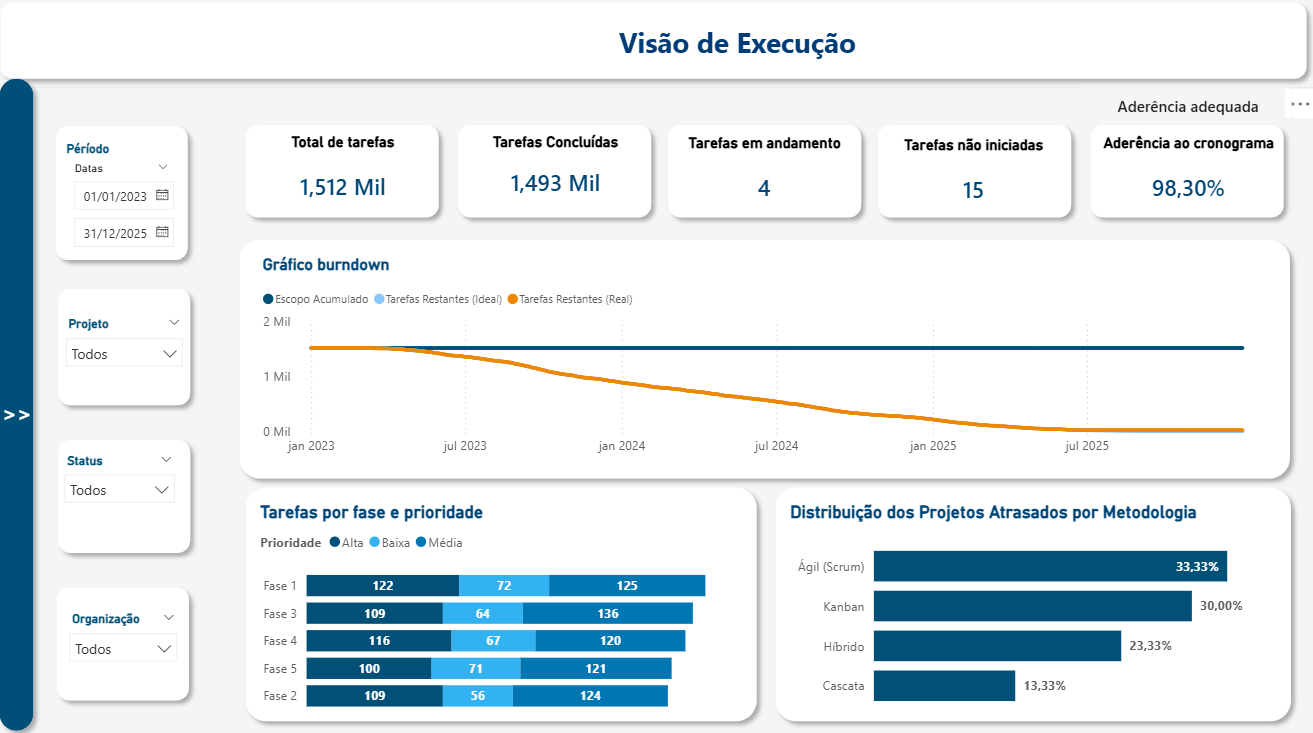

What the dashboard file says about the page in this screenshot:
{"tool":"powerbi","page":{"name":"Execução","canvas":[1280,720],"ordinal":3},"visuals":[{"type":"shape","box":[0,73.3,50.9,647.5],"z":0,"group":"g13"},{"type":"shape","box":[442.4,118,204.3,107.5],"z":0,"group":"g7"},{"type":"group","id":"g1","title":"Grupo 5","box":[645,118,204.3,107.5],"z":0,"group":"g9"},{"type":"shape","box":[645,118,204.3,107.5],"z":0,"group":"g1"},{"type":"shape","box":[848.3,118,204.3,107.5],"z":0,"group":"g8"},{"type":"shape","box":[1052.9,118,204.3,107.5],"z":0,"group":"g15"},{"type":"shape","box":[237.6,118.8,204.3,107.5],"z":0,"group":"g3"},{"type":"shape","box":[54.5,120,145.6,147.4],"z":0,"group":"g2"},{"type":"shape","box":[231.9,229.2,1032,248.5],"z":0,"group":"g14"},{"type":"shape","box":[57.5,276.6,145.6,130.7],"z":0,"group":"g4"},{"type":"shape","box":[56.9,422,145.6,127.2],"z":0,"group":"g6"},{"type":"shape","box":[237.5,468.1,511.3,243.9],"z":0,"group":"g10"},{"type":"shape","box":[748.6,468.1,515.5,243.9],"z":0,"group":"g11"},{"type":"shape","box":[56,565.1,145.6,127.2],"z":0,"group":"g5"},{"type":"shape","box":[1.5,0,1278.5,91.9],"z":1000},{"type":"group","id":"g2","title":"Grupo 9","box":[54.5,120,146.1,149.1],"z":1000,"group":"g12"},{"type":"cardVisual","title":"Tarefas Concluídas","fields":{"Data":["CountNonNull(fato_tarefas.nome_tarefa)"]},"box":[457.1,135,177.3,76.2],"z":1000,"group":"g7"},{"type":"cardVisual","title":"Tarefas em andamento","fields":{"Data":["CountNonNull(fato_tarefas.nome_tarefa)"]},"box":[658.3,136,178,82.6],"z":1000,"group":"g1"},{"type":"cardVisual","title":"Total de tarefas","fields":{"Data":["CountNonNull(fato_tarefas.nome_tarefa)"]},"box":[260.1,136.1,160.2,83.4],"z":1000,"group":"g3"},{"type":"cardVisual","title":"Aderência ao cronograma","fields":{"Data":["Medidas.% SPI"]},"box":[1062.1,136.6,188.3,84.4],"z":1000,"group":"g15"},{"type":"cardVisual","title":"Tarefas não iniciadas","fields":{"Data":["CountNonNull(fato_tarefas.nome_tarefa)"]},"box":[855.8,137,188.3,85.7],"z":1000,"group":"g8"},{"type":"slicer","title":"Péríodo","fields":{"Values":["dim_calendario.data"]},"box":[69.4,143.7,115.8,113.2],"z":1000,"group":"g2"},{"type":"lineChart","title":"Gráfico burndown","fields":{"Y":["Medidas.Escopo Acumulado (Até a Data)","Medidas.Tarefas Restantes (Ideal)","Medidas.Tarefas Restantes (Real)"],"Category":["dim_calendario.data"]},"box":[259,253.4,977,201.1],"z":1000,"group":"g14"},{"type":"slicer","fields":{"Values":["dim_projeto.nome_projeto"]},"box":[63.4,307.7,133.3,77.2],"z":1000,"group":"g4"},{"type":"actionButton","title":">>>","box":[0,380.6,51.6,46.7],"z":1000,"group":"g13"},{"type":"slicer","fields":{"Values":["dim_projeto.status"]},"box":[62.1,438.6,126.7,86.7],"z":1000,"group":"g6"},{"type":"barChart","title":"Tarefas por fase e prioridade","fields":{"Y":["CountNonNull(fato_tarefas.nome_tarefa)"],"Category":["fato_tarefas.fase"],"Series":["dim_projeto.prioridade"]},"box":[255.1,491,477.3,214.2],"z":1000,"group":"g10"},{"type":"barChart","title":"Distribuição dos Projetos Atrasados por Metodologia","fields":{"Category":["dim_projeto.metodologia"],"Y":["Medidas.% Participacao_Atrasos_Metodologia"]},"box":[766.3,491,481.2,214.2],"z":1000,"group":"g11"},{"type":"slicer","fields":{"Values":["dim_projeto.departamento","dim_gerente.nome_gerente"]},"box":[66.6,592.7,124.3,76],"z":1000,"group":"g5"},{"type":"group","id":"g3","title":"Grupo 5","box":[237.6,118.8,201.7,107.9],"z":2000},{"type":"group","id":"g4","title":"Grupo 8","box":[57.5,276.6,146.1,129.5],"z":2000,"group":"g12"},{"type":"group","id":"g5","title":"Grupo 7","box":[56,565.1,145.9,127.5],"z":2500},{"type":"group","id":"g6","title":"Grupo 7","box":[56.9,422,145.6,127.2],"z":2750},{"type":"group","id":"g7","title":"Grupo 5","box":[442.4,118,204.3,107.5],"z":3000},{"type":"group","id":"g8","title":"Grupo 5","box":[848.3,118,204.3,107.5],"z":4000},{"type":"group","id":"g9","title":"Grupo 6","box":[645,118,204.3,107.5],"z":5000},{"type":"group","id":"g10","title":"Grupo 11","box":[237.5,468.1,511.1,244.4],"z":6000},{"type":"group","id":"g11","title":"Grupo 11","box":[748.6,468.1,515.3,244.4],"z":7000},{"type":"textbox","box":[589.2,23.8,265.2,57.2],"z":8000},{"type":"group","id":"g12","title":"Grupo 3","box":[54.5,120,149.1,286.1],"z":9000},{"type":"group","id":"g13","title":"Grupo 2","box":[0,73.3,51.1,646.7],"z":10000},{"type":"group","id":"g14","title":"Grupo 3","box":[231.9,229.2,1031.9,248.6],"z":12000},{"type":"group","id":"g15","title":"Grupo 5","box":[1052.9,118,204.3,107.5],"z":13000},{"type":"cardVisual","fields":{"Data":["Medidas.Aviso_Aderencia_Cronograma"]},"box":[1035.9,73.1,238.5,66.7],"z":14000}]}

Visuals, with their boxes in screenshot pixels (x1, y1, x2, y2), scaled from the page's 1280x720 canvas onto the 1313x733 screenshot:
shape: [0,75,52,732]
shape: [454,120,663,230]
"Grupo 5" group: [662,120,871,230]
shape: [662,120,871,230]
shape: [870,120,1080,230]
shape: [1080,120,1290,230]
shape: [244,121,453,230]
shape: [56,122,205,272]
shape: [238,233,1296,486]
shape: [59,282,208,415]
shape: [58,430,208,559]
shape: [244,477,768,725]
shape: [768,477,1297,725]
shape: [57,575,207,705]
shape: [2,0,1312,94]
"Grupo 9" group: [56,122,206,274]
"Tarefas Concluídas" cardVisual: [469,137,651,215]
"Tarefas em andamento" cardVisual: [675,138,858,223]
"Total de tarefas" cardVisual: [267,139,431,223]
"Aderência ao cronograma" cardVisual: [1089,139,1283,225]
"Tarefas não iniciadas" cardVisual: [878,139,1071,227]
"Péríodo" slicer: [71,146,190,262]
"Gráfico burndown" lineChart: [266,258,1268,463]
slicer - dim_projeto.nome_projeto: [65,313,202,392]
">>>" actionButton: [0,387,53,435]
slicer - dim_projeto.status: [64,447,194,535]
"Tarefas por fase e prioridade" barChart: [262,500,751,718]
"Distribuição dos Projetos Atrasados por Metodologia" barChart: [786,500,1280,718]
slicer - dim_projeto.departamento x dim_gerente.nome_gerente: [68,603,196,681]
"Grupo 5" group: [244,121,451,231]
"Grupo 8" group: [59,282,209,413]
"Grupo 7" group: [57,575,207,705]
"Grupo 7" group: [58,430,208,559]
"Grupo 5" group: [454,120,663,230]
"Grupo 5" group: [870,120,1080,230]
"Grupo 6" group: [662,120,871,230]
"Grupo 11" group: [244,477,768,725]
"Grupo 11" group: [768,477,1296,725]
textbox: [604,24,876,82]
"Grupo 3" group: [56,122,209,413]
"Grupo 2" group: [0,75,52,732]
"Grupo 3" group: [238,233,1296,486]
"Grupo 5" group: [1080,120,1290,230]
cardVisual - Medidas.Aviso_Aderencia_Cronograma: [1063,74,1307,142]
